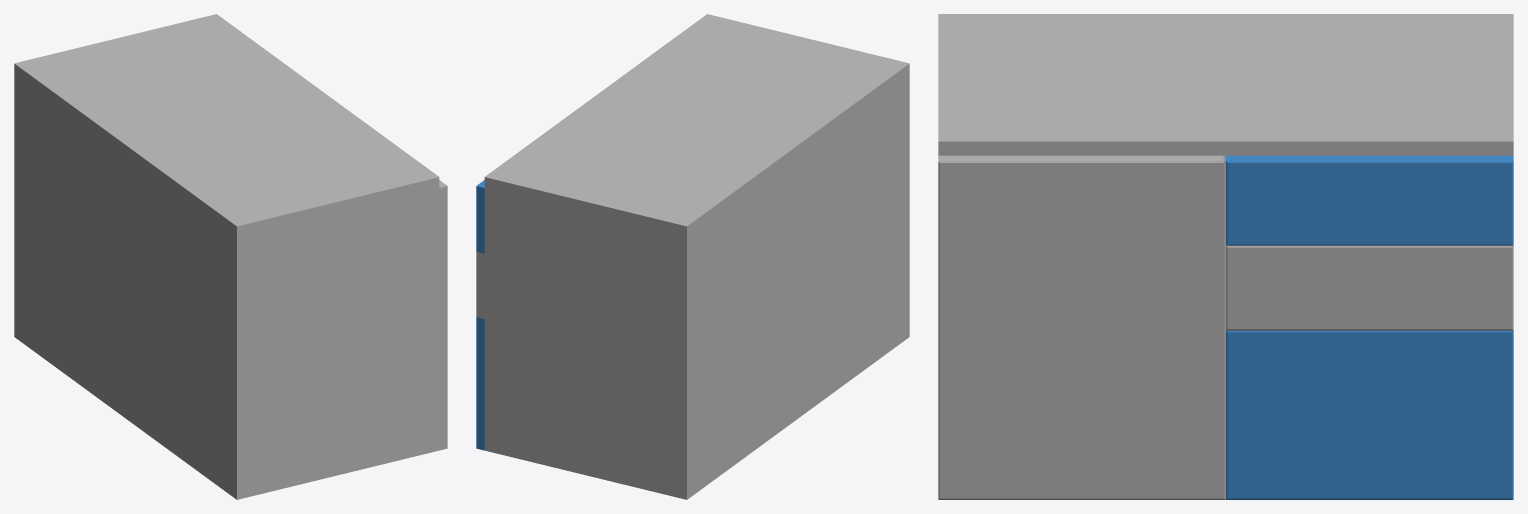
Rendered from LabCabinet.fbx.
The picture shows the model from 3 angles, left to right: view 1: azimuth 30°, elevation 25°; view 2: azimuth 150°, elevation 25°; view 3: azimuth 270°, elevation 25°; orthographic projection. The views are drawn at different scales.
Visible parts, largest first — view 1: LabCabinet; view 2: LabCabinet; view 3: LabCabinet.
Boxes of the visible parts, <box> form: LabCabinet: <box>14,14,447,499</box>; LabCabinet: <box>476,14,909,499</box>; LabCabinet: <box>938,14,1513,499</box>.
Bounding box in the file's own units: 66.26 × 81.93 × 121.
